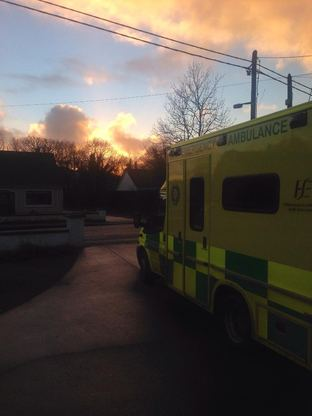ambulance: (133, 106, 310, 349)
